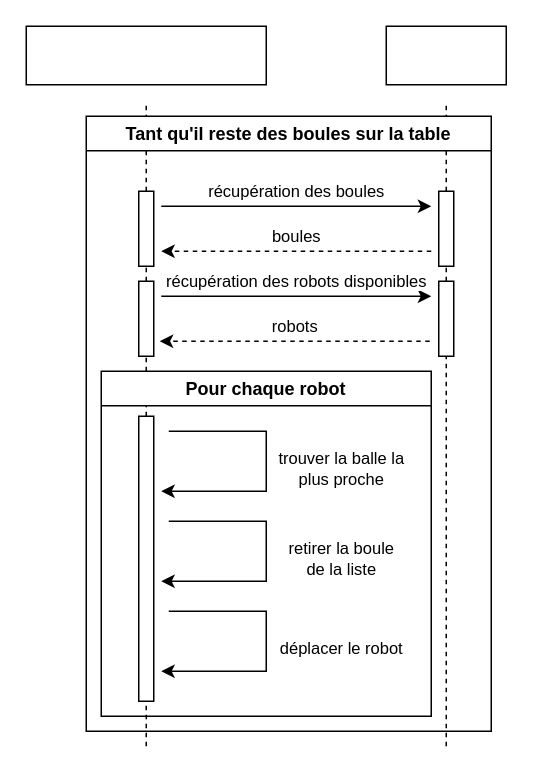
This 533x774 diagram has some shape labels left out. The shapes that lost their labels are listed below. From the top down, each one's box as (x1, y1, x2, y2) in pixels, then its label:
(25, 25, 266, 85): strartBillardCollaboration
(385, 25, 506, 85): elements-manager
